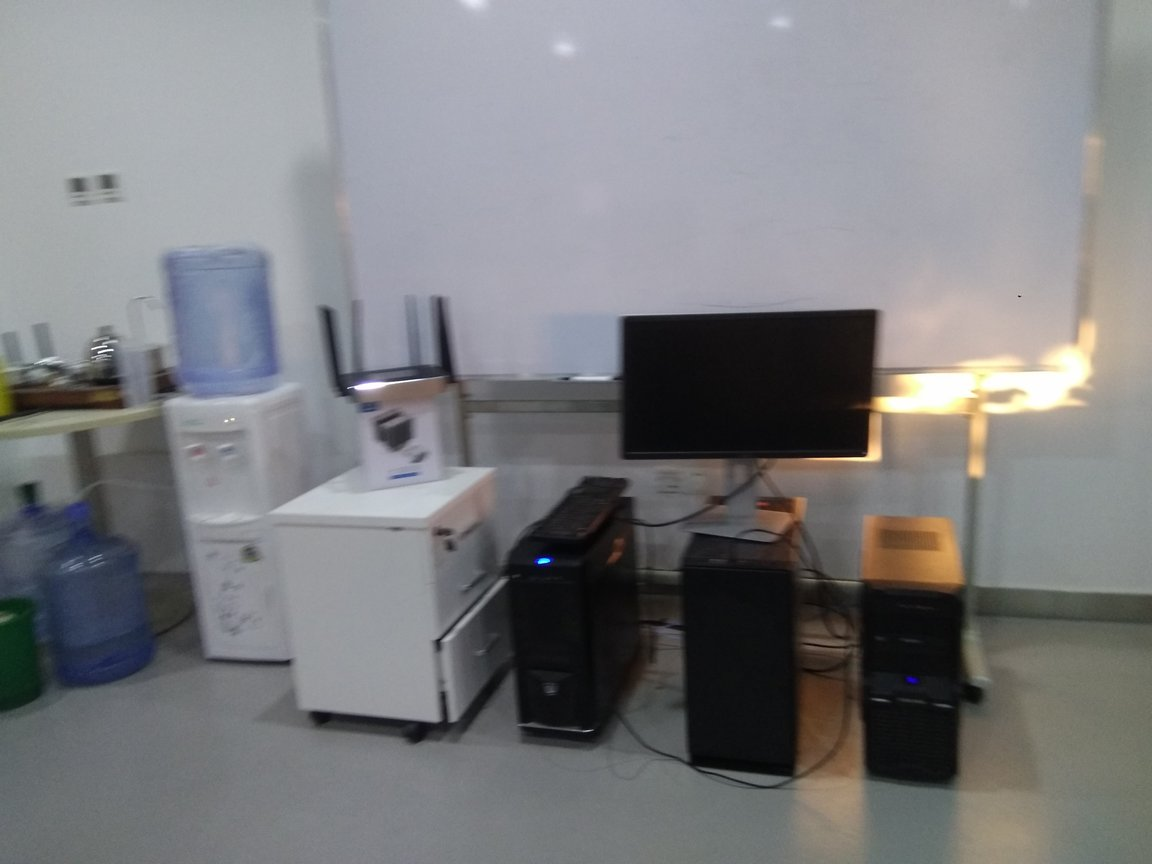computer: (679, 491, 808, 788), (507, 495, 649, 758), (849, 514, 974, 798)
drawer chest: (272, 464, 504, 742)
monitor: (616, 301, 878, 549)
scuttlebutt: (52, 506, 155, 692), (164, 246, 279, 409), (1, 482, 86, 655)
water dispenser: (164, 384, 322, 690)
